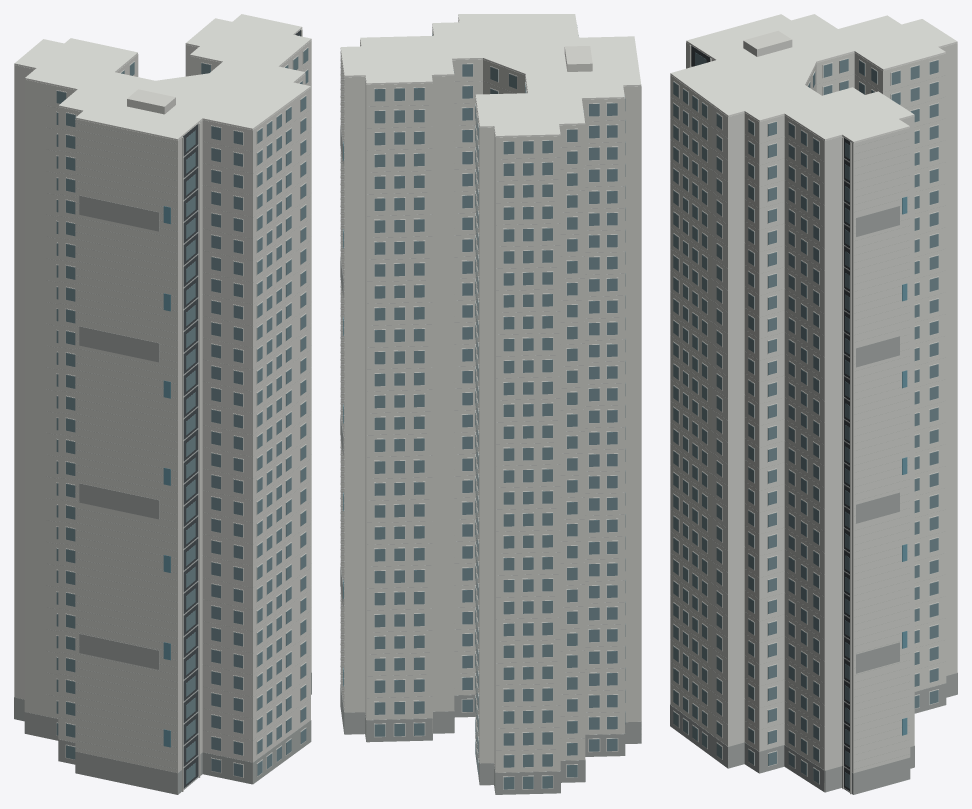
The model's file is bespoke-mapo-raemian-prugio-404.glb.
3 renders of one model, left to right at view 1: azimuth 30°, elevation 25°; view 2: azimuth 150°, elevation 25°; view 3: azimuth 270°, elevation 25°, orthographic.
Parts seen in each view (by area): view 1: Mapo404_editable_Mapo404_pale_stone_panel_wall, Mapo404_editable_Mapo404_broad_white_facade_frames, Mapo404_editable_Mapo404_turquoise_balcony_glazing, Mapo404_editable_Mapo404_wide_grey_horizontal_bands, Mapo404_editable_Mapo404_light_grey_solid_wall, Mapo404_editable_Mapo404_deep_charcoal_service_bank, Mapo404_editable_Mapo404_narrow_blue_panel_blocks; view 2: Mapo404_editable_Mapo404_pale_stone_panel_wall, Mapo404_editable_Mapo404_turquoise_balcony_glazing, Mapo404_editable_Mapo404_broad_white_facade_frames, Mapo404_editable_Mapo404_wide_grey_horizontal_bands, Mapo404_editable_Mapo404_light_grey_solid_wall; view 3: Mapo404_editable_Mapo404_pale_stone_panel_wall, Mapo404_editable_Mapo404_broad_white_facade_frames, Mapo404_editable_Mapo404_turquoise_balcony_glazing, Mapo404_editable_Mapo404_wide_grey_horizontal_bands, Mapo404_editable_Mapo404_light_grey_solid_wall, Mapo404_editable_Mapo404_deep_charcoal_service_bank, Mapo404_editable_Mapo404_narrow_blue_panel_blocks.
Boxes of the visible parts, <box> form: Mapo404_editable_Mapo404_pale_stone_panel_wall: <box>14,28,311,794</box>; Mapo404_editable_Mapo404_broad_white_facade_frames: <box>14,14,311,791</box>; Mapo404_editable_Mapo404_turquoise_balcony_glazing: <box>56,35,308,784</box>; Mapo404_editable_Mapo404_wide_grey_horizontal_bands: <box>14,195,311,794</box>; Mapo404_editable_Mapo404_light_grey_solid_wall: <box>46,62,311,789</box>; Mapo404_editable_Mapo404_deep_charcoal_service_bank: <box>183,30,300,788</box>; Mapo404_editable_Mapo404_narrow_blue_panel_blocks: <box>163,206,170,747</box>; Mapo404_editable_Mapo404_pale_stone_panel_wall: <box>340,16,641,772</box>; Mapo404_editable_Mapo404_turquoise_balcony_glazing: <box>374,25,625,789</box>; Mapo404_editable_Mapo404_broad_white_facade_frames: <box>340,14,641,789</box>; Mapo404_editable_Mapo404_wide_grey_horizontal_bands: <box>340,125,641,794</box>; Mapo404_editable_Mapo404_light_grey_solid_wall: <box>340,52,623,772</box>; Mapo404_editable_Mapo404_pale_stone_panel_wall: <box>670,30,957,791</box>; Mapo404_editable_Mapo404_broad_white_facade_frames: <box>670,14,957,794</box>; Mapo404_editable_Mapo404_turquoise_balcony_glazing: <box>673,52,938,788</box>; Mapo404_editable_Mapo404_wide_grey_horizontal_bands: <box>670,206,957,794</box>; Mapo404_editable_Mapo404_light_grey_solid_wall: <box>670,66,945,792</box>; Mapo404_editable_Mapo404_deep_charcoal_service_bank: <box>691,46,851,791</box>; Mapo404_editable_Mapo404_narrow_blue_panel_blocks: <box>902,196,907,735</box>.
Size of the model in its own units: 36.02 by 86.55 by 34.19.
